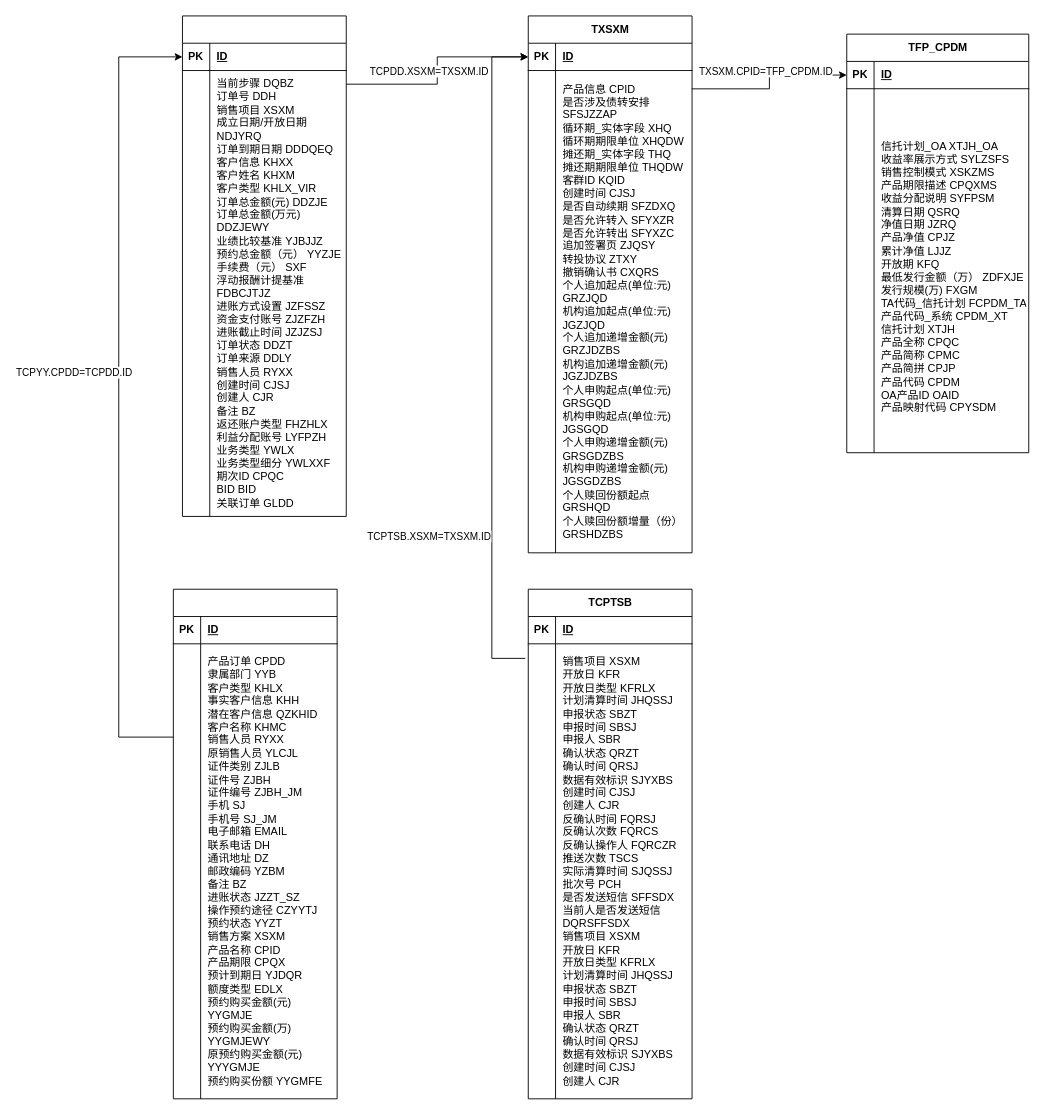
The diagram is 1045 pixels wide and 1115 high, and some of its shapes have lost their labels. The box of each missing label's shape, as (x1, y1, x2, y2) in pixels:
TCPDD: (182, 15, 346, 516)
TCPYY: (172, 588, 337, 1099)
